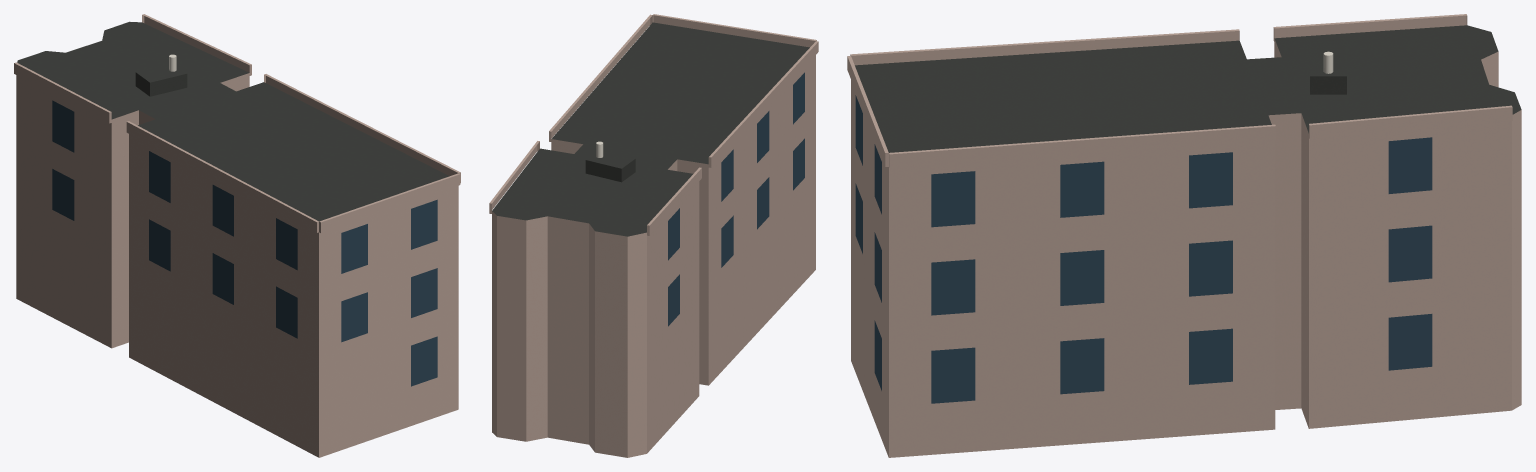
The picture shows the model from 3 angles, left to right: view 1: azimuth 30°, elevation 25°; view 2: azimuth 150°, elevation 25°; view 3: azimuth 270°, elevation 25°; orthographic projection. The views are drawn at different scales.
Parts seen in each view (by area): view 1: Footprint 0 / surface 2, Footprint 0 / surface 1, Inset glazing, Facade bay volumes, Inferred rooftop service enclosure / surface 5, Inferred rooftop service enclosure / surface 3; view 2: Footprint 0 / surface 2, Footprint 0 / surface 1, Facade bay volumes, Inset glazing, Inferred rooftop service enclosure / surface 6, Inferred rooftop service enclosure / surface 3; view 3: Footprint 0 / surface 2, Footprint 0 / surface 1, Inset glazing, Facade bay volumes, Inferred rooftop service enclosure / surface 3, Inferred rooftop service enclosure / surface 1.
Boxes of the visible parts, bbox=[...] form: Footprint 0 / surface 2: bbox=[16, 73, 458, 457]; Footprint 0 / surface 1: bbox=[17, 21, 449, 221]; Inset glazing: bbox=[52, 100, 437, 386]; Facade bay volumes: bbox=[14, 14, 460, 232]; Inferred rooftop service enclosure / surface 5: bbox=[150, 74, 187, 96]; Inferred rooftop service enclosure / surface 3: bbox=[136, 64, 186, 82]; Footprint 0 / surface 2: bbox=[492, 55, 815, 457]; Footprint 0 / surface 1: bbox=[492, 22, 809, 236]; Facade bay volumes: bbox=[489, 14, 818, 235]; Inset glazing: bbox=[668, 72, 804, 326]; Inferred rooftop service enclosure / surface 6: bbox=[585, 160, 621, 182]; Inferred rooftop service enclosure / surface 3: bbox=[586, 151, 634, 168]; Footprint 0 / surface 2: bbox=[851, 39, 1521, 457]; Footprint 0 / surface 1: bbox=[855, 25, 1521, 152]; Inset glazing: bbox=[855, 95, 1432, 403]; Facade bay volumes: bbox=[847, 14, 1512, 168]; Inferred rooftop service enclosure / surface 3: bbox=[1310, 53, 1346, 76]; Inferred rooftop service enclosure / surface 1: bbox=[1310, 76, 1346, 94].
Bounding box in the file's own units: 10.8 × 11.89 × 21.91.
